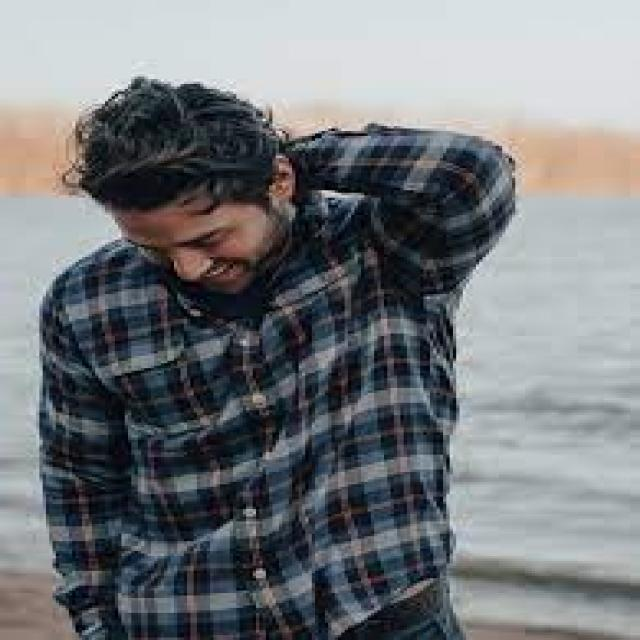plaid: (33, 232, 479, 618)
